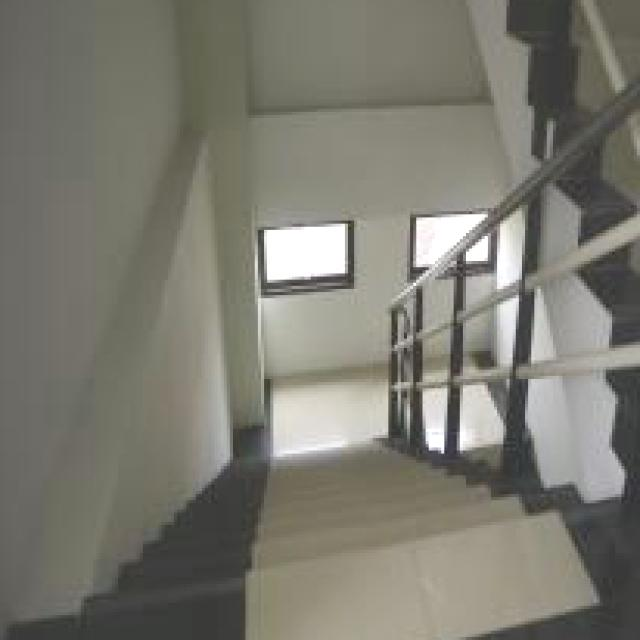downstair: (228, 464, 455, 607)
